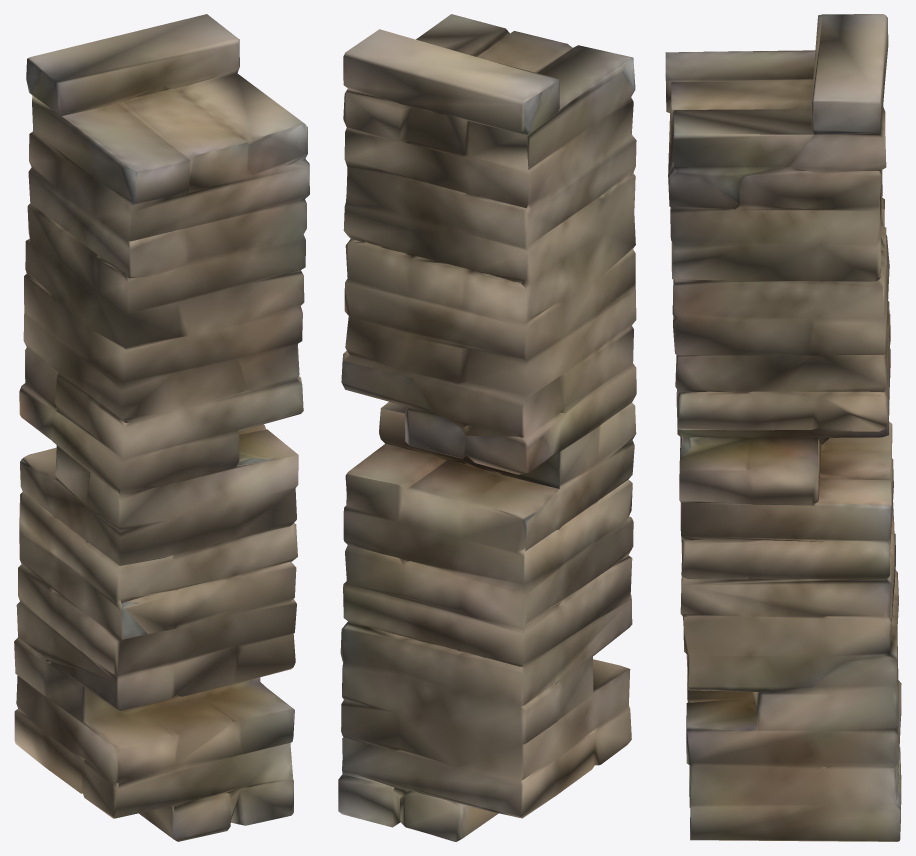
File: 2_of_Jenga_Classic_Game-medium.glb
The picture shows the model from 3 angles, left to right: view 1: azimuth 30°, elevation 25°; view 2: azimuth 150°, elevation 25°; view 3: azimuth 270°, elevation 25°; orthographic projection. The views are drawn at different scales.
Parts seen in each view (by area): view 1: 2_of_Jenga_Classic_Game; view 2: 2_of_Jenga_Classic_Game; view 3: 2_of_Jenga_Classic_Game.
Boxes of the visible parts, <box> form: 2_of_Jenga_Classic_Game: <box>14,14,309,841</box>; 2_of_Jenga_Classic_Game: <box>338,14,636,841</box>; 2_of_Jenga_Classic_Game: <box>665,14,901,841</box>.
Bounding box in the file's own units: 0.0783 × 0.2918 × 0.0837.
1 material, 1 textured.
